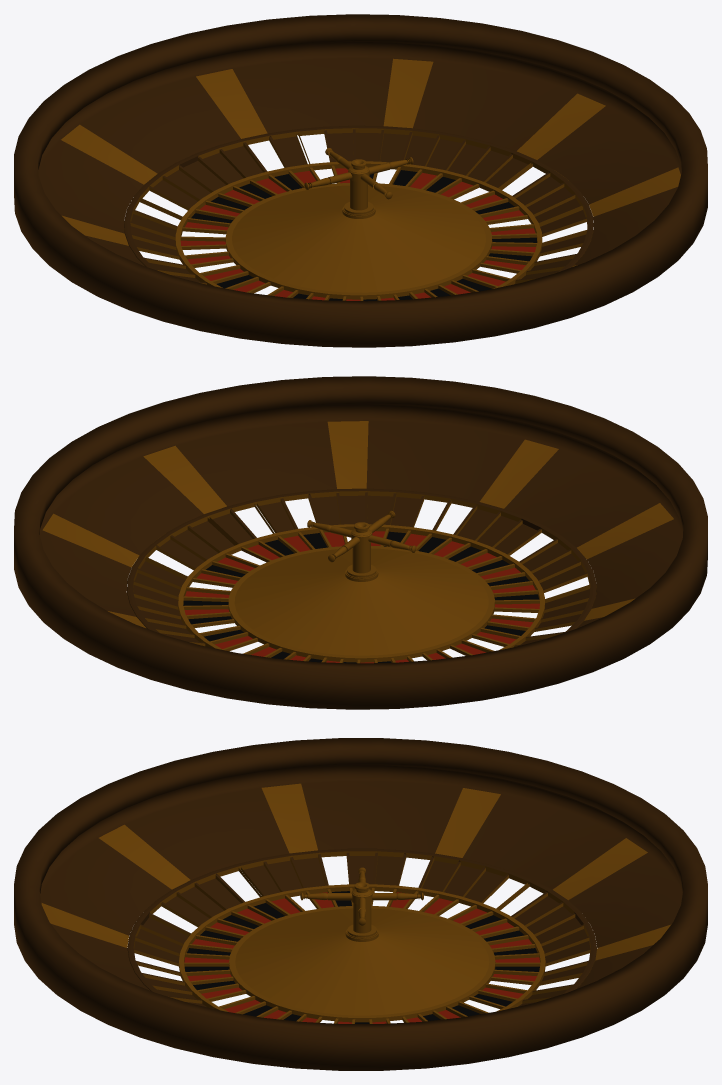
Rendered from Roulette Wheel.fbx.
3 views of the same model, one above another, from view 1: azimuth 30°, elevation 25°; view 2: azimuth 150°, elevation 25°; view 3: azimuth 270°, elevation 25° (orthographic).
Visible parts, largest first — view 1: Roulette (Outer), Roulette (Inner); view 2: Roulette (Outer), Roulette (Inner); view 3: Roulette (Outer), Roulette (Inner).
Part boxes in pixels (box(x1,y1,x2,y2)): Roulette (Outer): box(14, 14, 707, 347); Roulette (Inner): box(124, 125, 593, 301); Roulette (Outer): box(14, 376, 707, 709); Roulette (Inner): box(127, 488, 596, 663); Roulette (Outer): box(14, 738, 707, 1070); Roulette (Inner): box(127, 848, 596, 1023).
Bounding box in the file's own units: 1315 × 173 × 1318.
